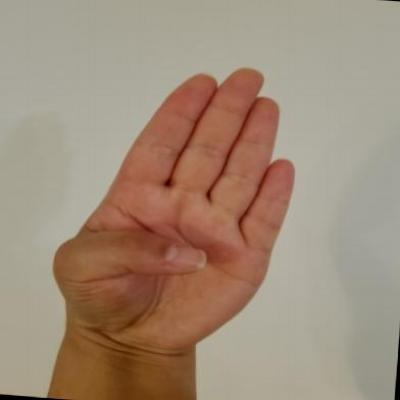hand: (39, 47, 310, 368)
